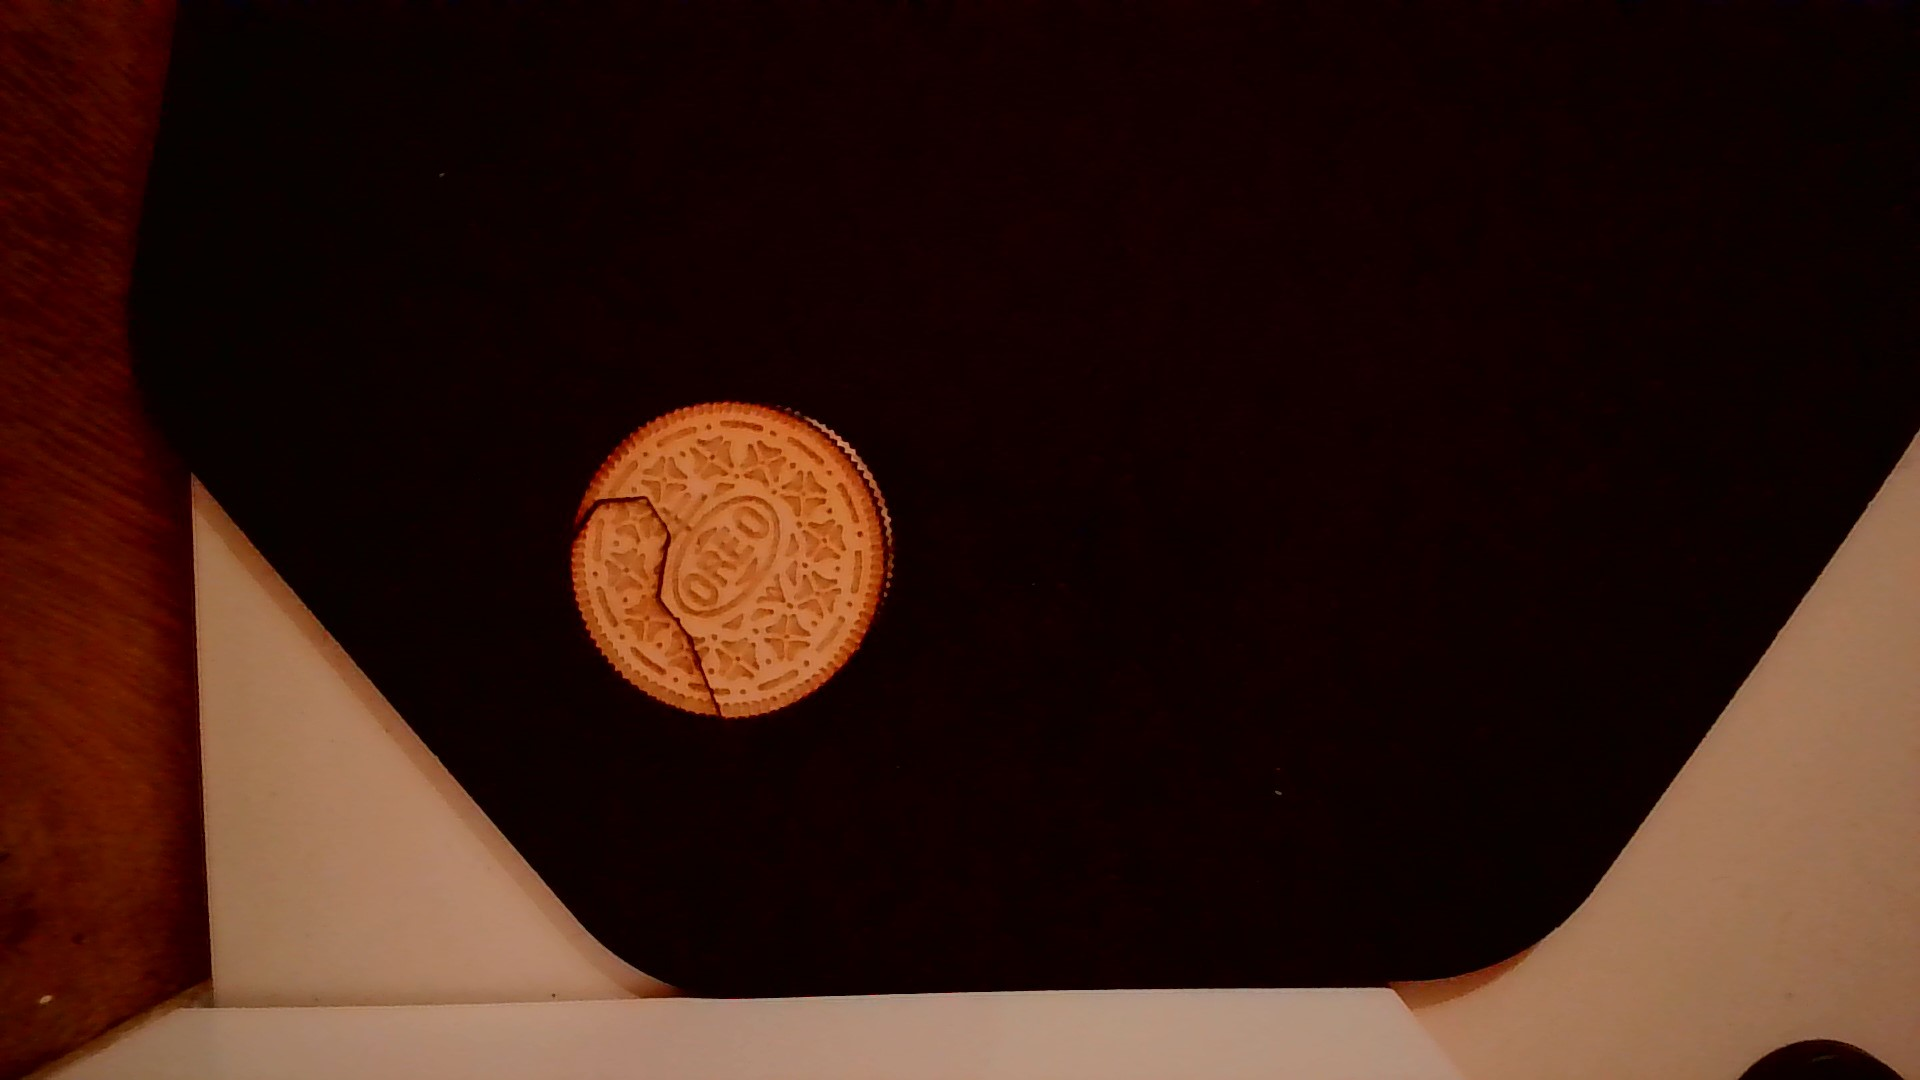Fissure: (563, 489, 727, 731)
Oréo: (559, 389, 899, 727)
